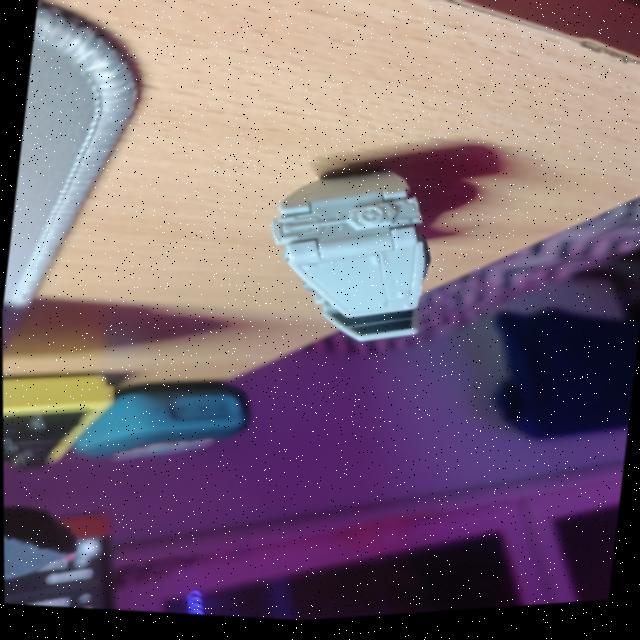tie fighter: (270, 176, 428, 345)
